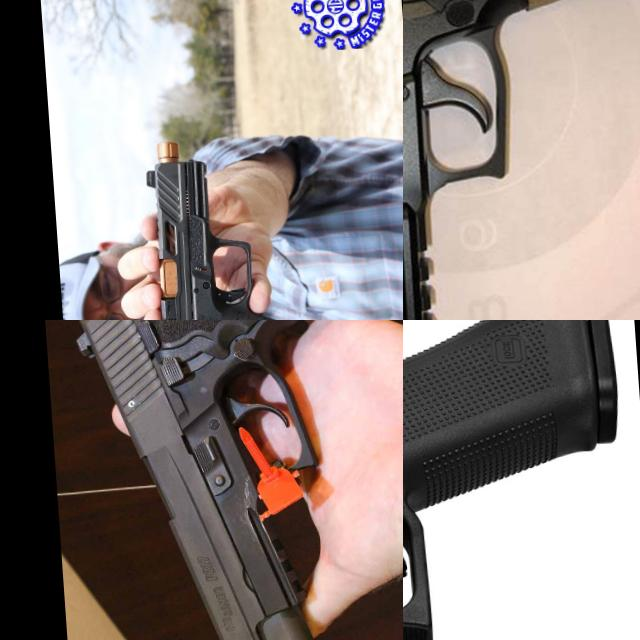handgun: (57, 320, 403, 640), (403, 0, 640, 320), (403, 320, 640, 640), (133, 128, 341, 320)
